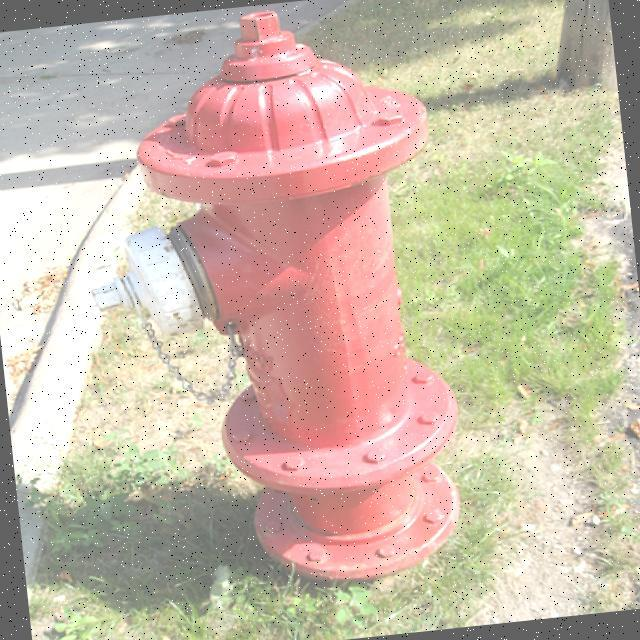fire_hydrant: (69, 0, 479, 611)
